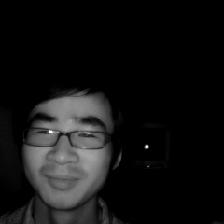happy: (14, 78, 135, 215)
